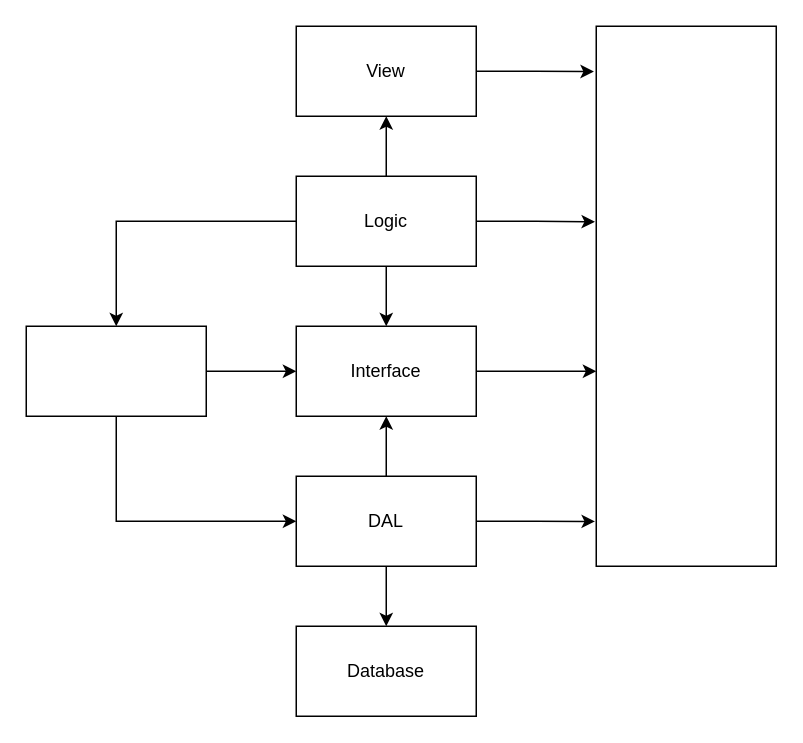
This 803x743 diagram has some shape labels left out. Here are the shapes that lost their labels. From the top down, the centre of each, then its label:
the point at 685,295: Model
the point at 115,370: Factory
